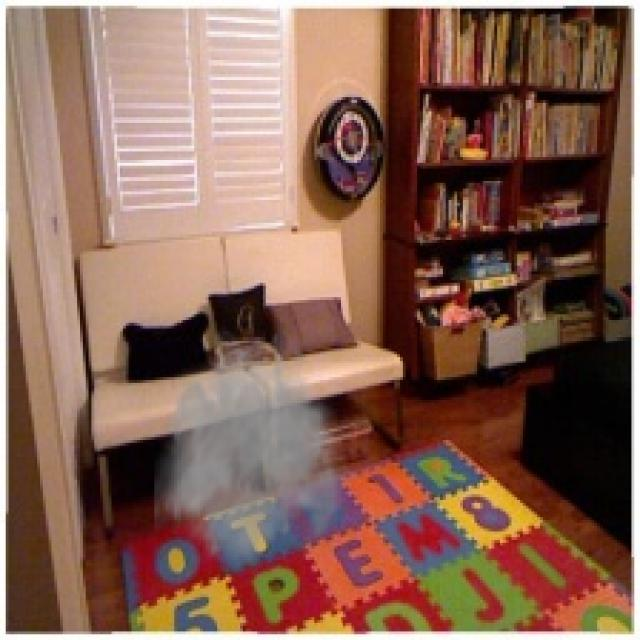smoke: (154, 323, 357, 574)
